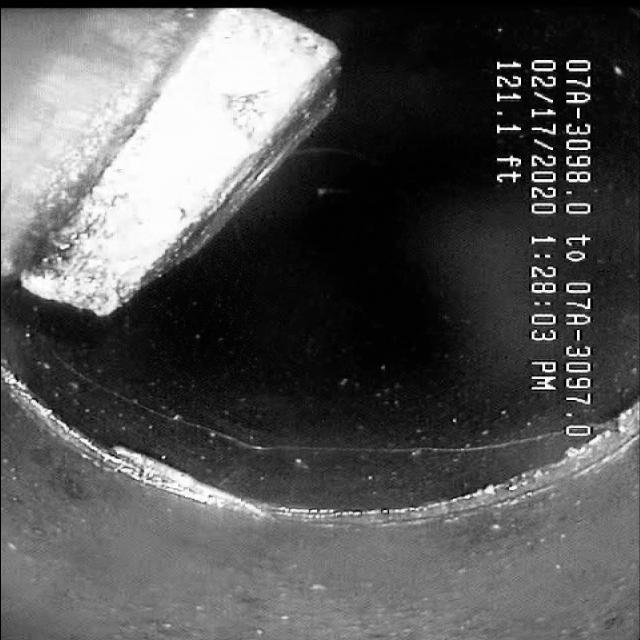Crack: (176, 404, 520, 482)
